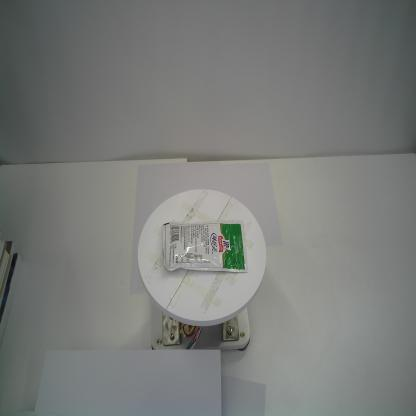Seasoner: (162, 220, 248, 273)
